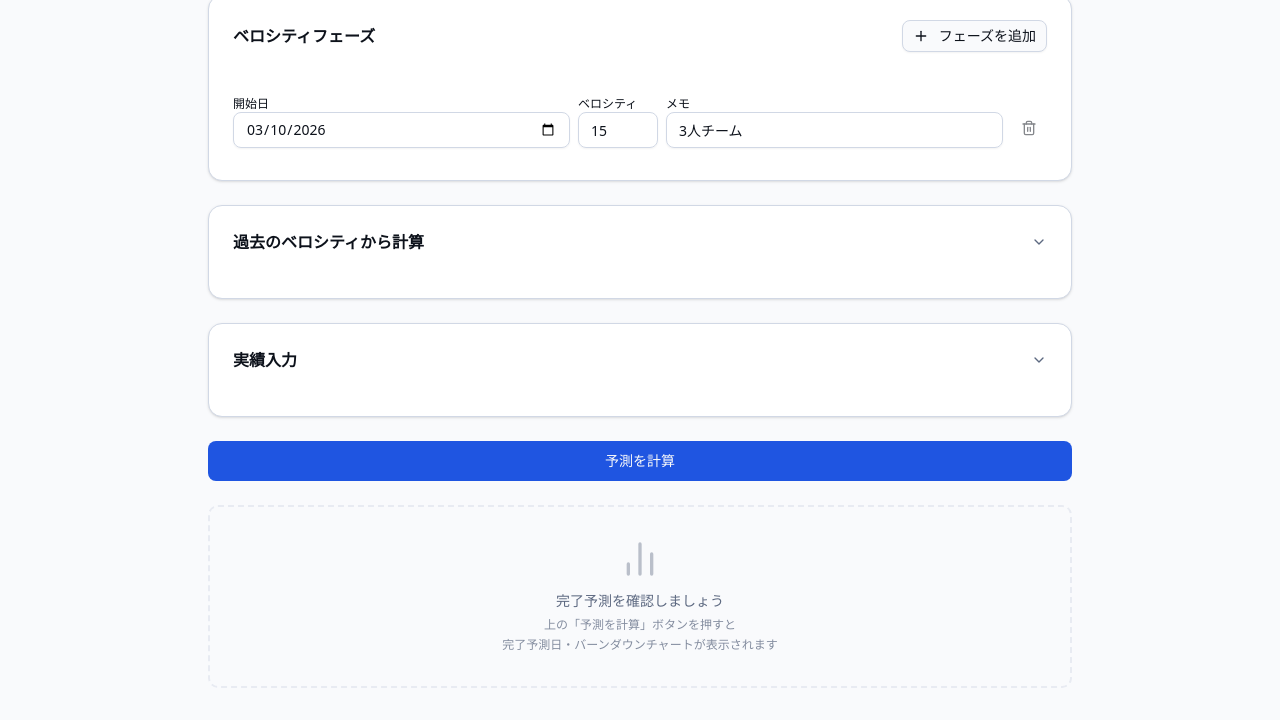
Home (page) › 計算後にプレースホルダーが非表示になる
(page scrolled)
Click the button "予測を計算" at {"x": 640, "y": 461}, box [208,441,1072,481]
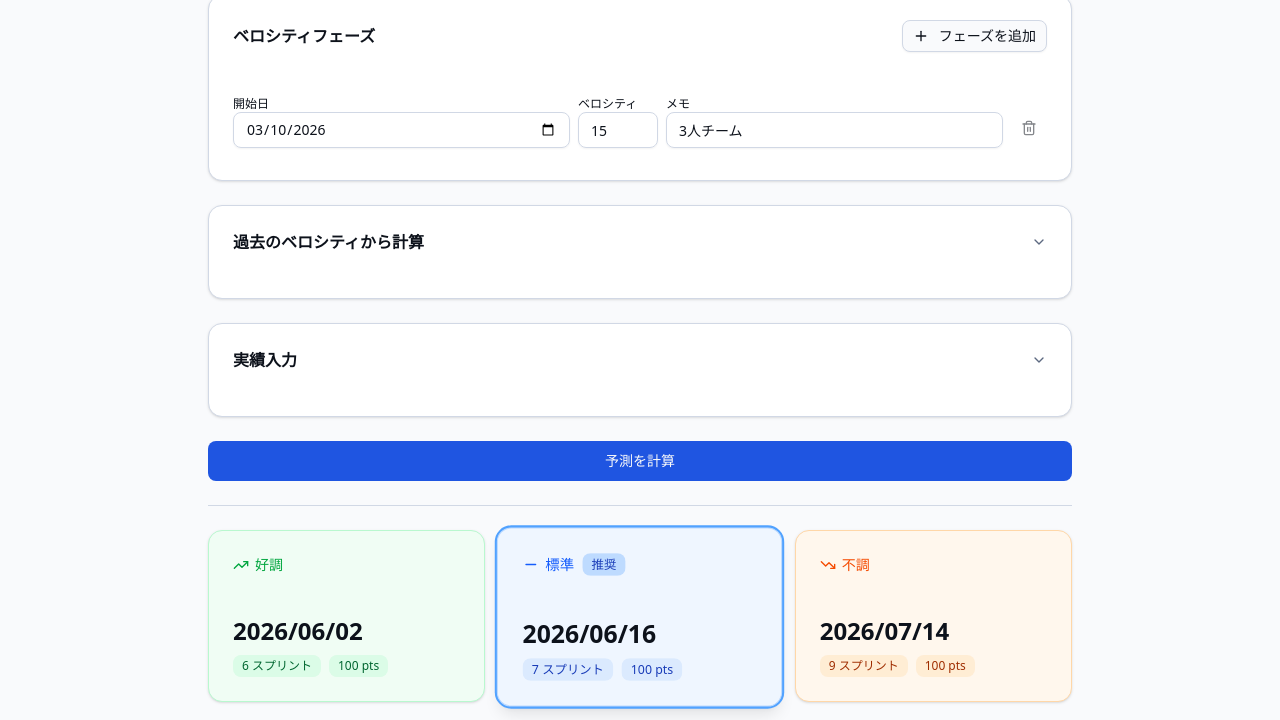
Expected: the text "完了予測を確認しましょう" is gone
